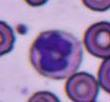N: (30, 29, 82, 78)
